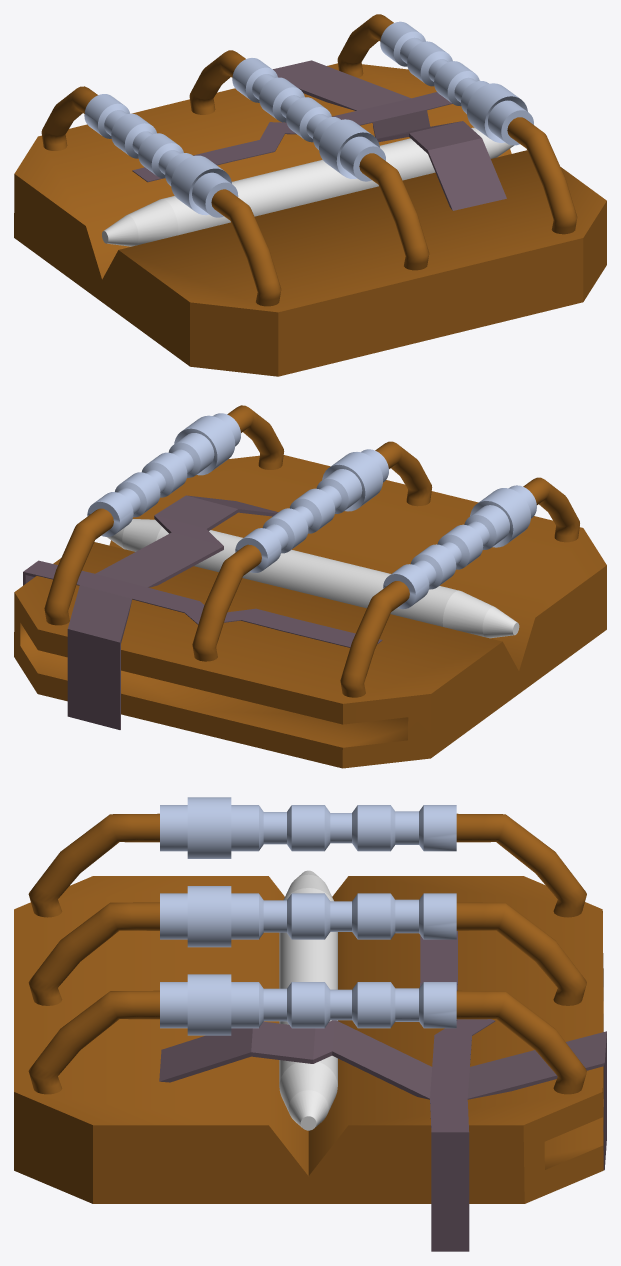
Rendered from aranha_com_fita.fbx.
The picture shows the model from 3 angles, top to bottom: view 1: azimuth 30°, elevation 25°; view 2: azimuth 150°, elevation 25°; view 3: azimuth 270°, elevation 25°; orthographic projection. The views are drawn at different scales.
Parts seen in each view (by area): view 1: Plane; view 2: Plane; view 3: Plane.
Part boxes in pixels (x1=…): Plane: x1=14, y1=14, x2=606, y2=376; Plane: x1=14, y1=405, x2=606, y2=768; Plane: x1=14, y1=797, x2=606, y2=1251.
Size of the model in its own units: 207 by 85.79 by 201.
